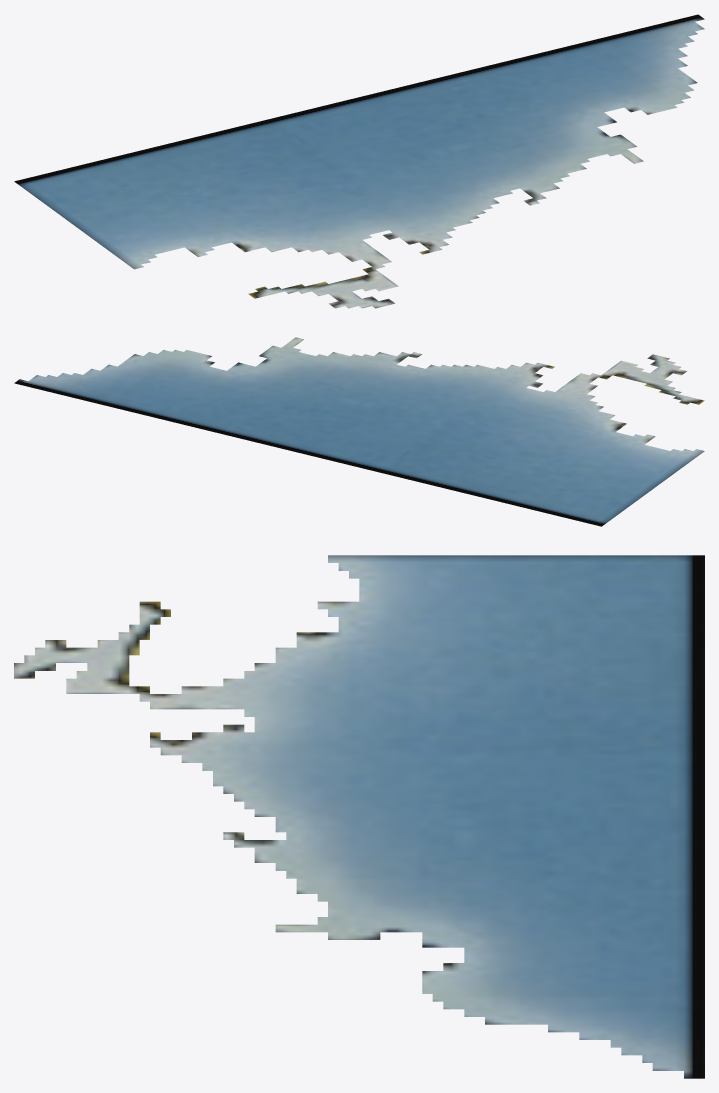
File: karelia-sea.gltf
3 views of the same model, one above another, from view 1: azimuth 30°, elevation 25°; view 2: azimuth 150°, elevation 25°; view 3: azimuth 270°, elevation 25° (orthographic). The views are drawn at different scales.
Parts seen in each view (by area): view 1: Plane; view 2: Plane; view 3: Plane.
Boxes of the visible parts, left/top/right/bottom form: Plane: left=14, top=14, right=704, bottom=308; Plane: left=14, top=337, right=704, bottom=526; Plane: left=14, top=555, right=704, bottom=1078.
Size of the model in its own units: 0.6714 by 0 by 0.3748.
1 material, 1 textured.
